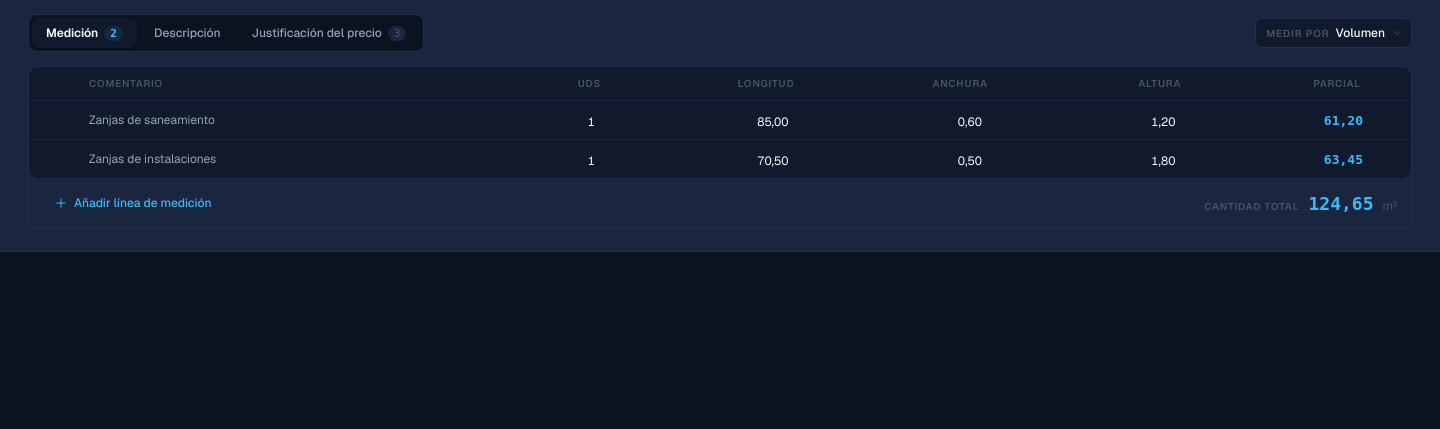
Test: forma de medir en la tabla de medición › «Según la unidad» vuelve a la forma de la ud
Step 1. Click the button with aria-label "Forma de medir" → (1334,33), box [1255,18,1412,48]
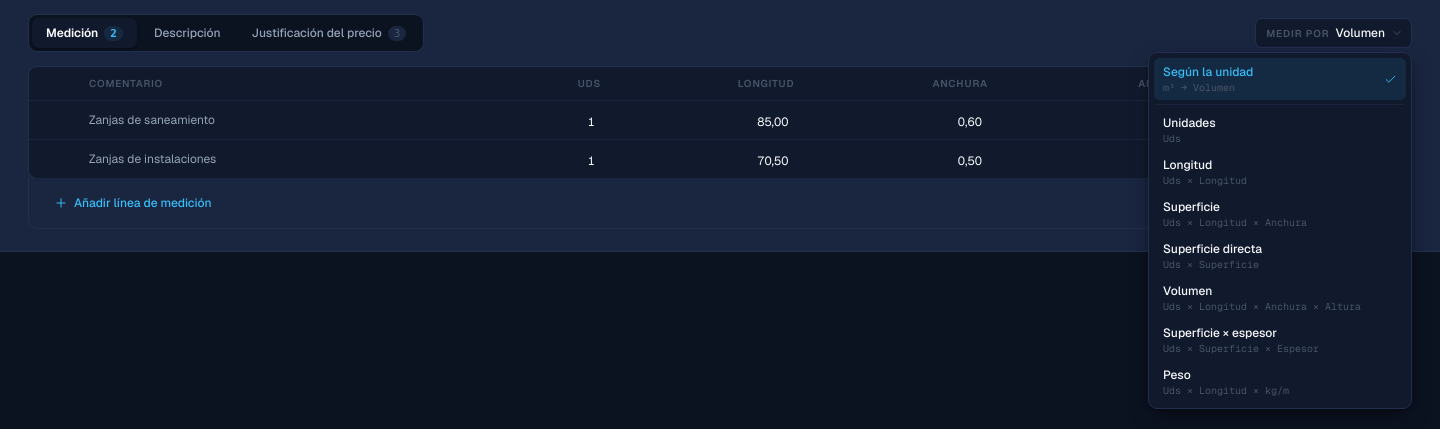
Step 2. Click the option "Superficie directa Uds × Superficie" → (1280,256), box [1154,235,1406,277]
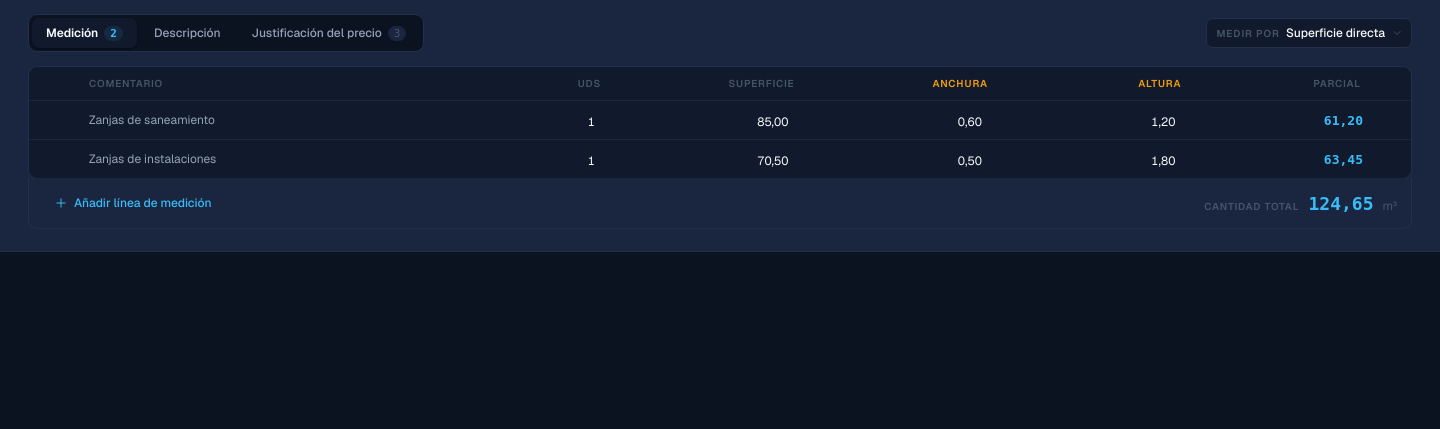
Step 3. Click the button with aria-label "Forma de medir" → (1309,33), box [1206,18,1412,48]
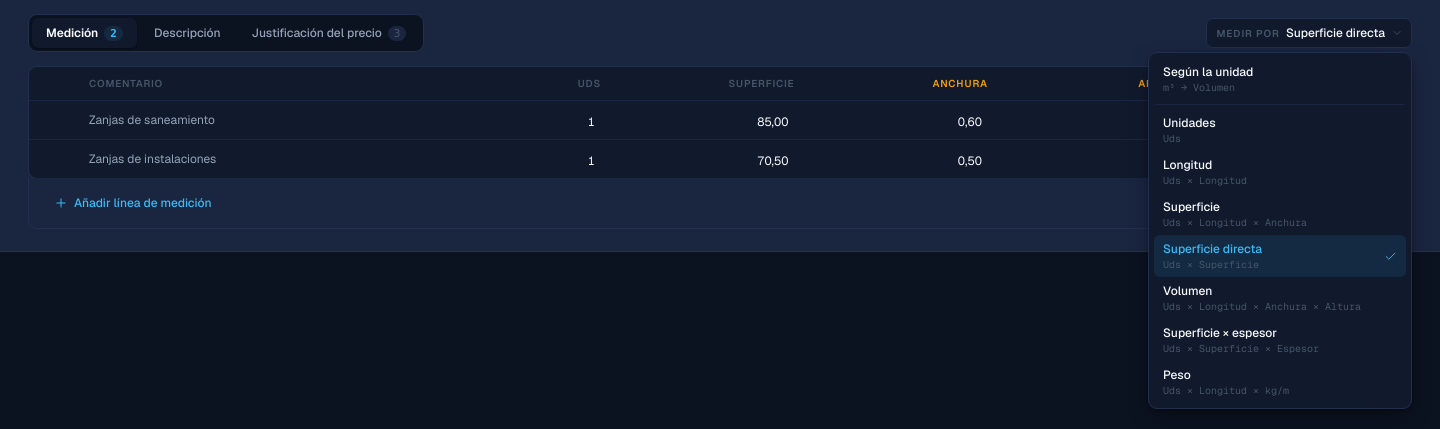
Step 4. Click the option "Según la unidad m³ → Volumen" → (1280,79), box [1154,58,1406,100]
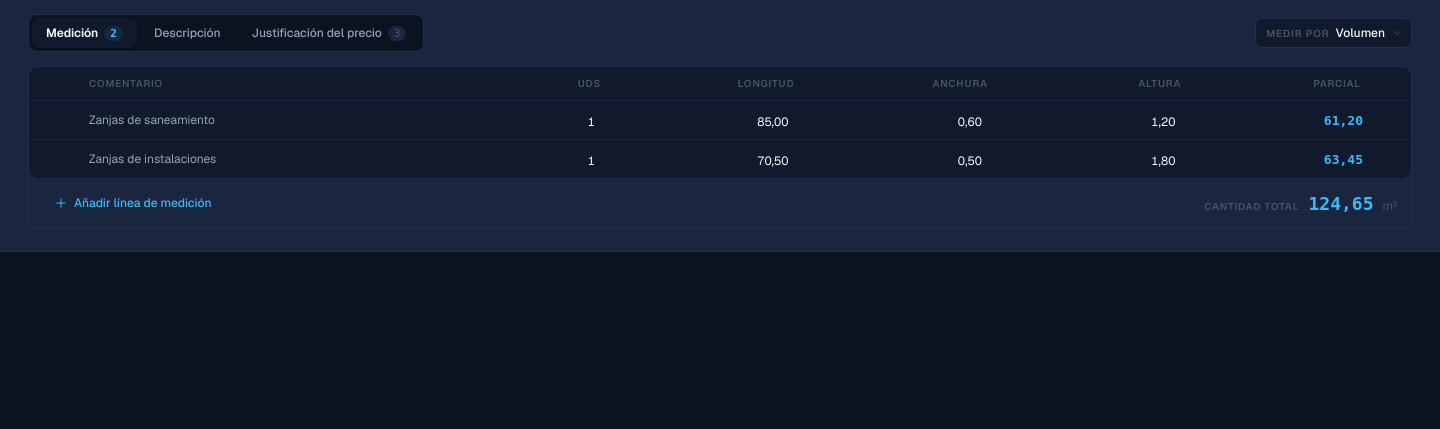
Check: the button with aria-label "Forma de medir: Volumen" is shown, box [1255,18,1412,48]
